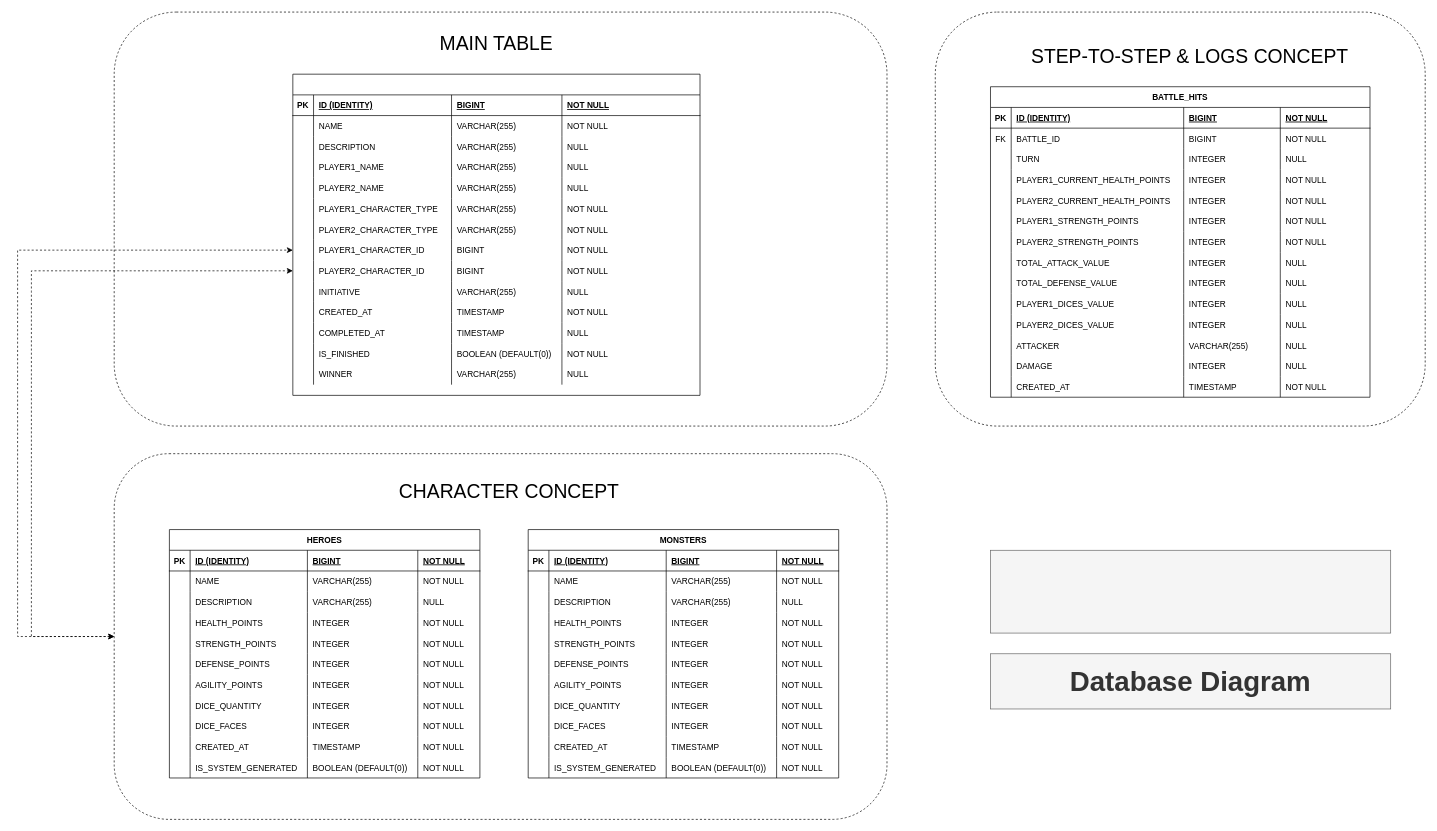
Image size: 1437x831. Some labels were removed from this diagram. The box of each missing label's shape, as (x1, y1, x2, y2) in pixels:
BATTLES: (292, 73, 700, 395)
RPG Battle: (990, 550, 1391, 633)
